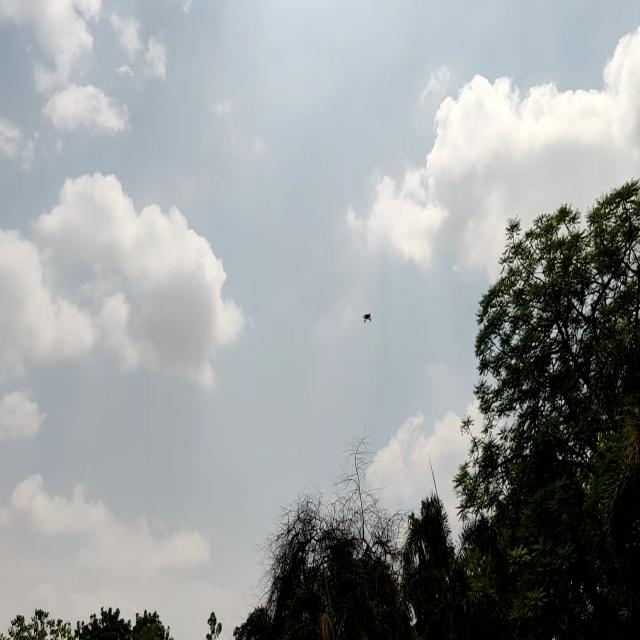drone: (357, 302, 377, 329)
